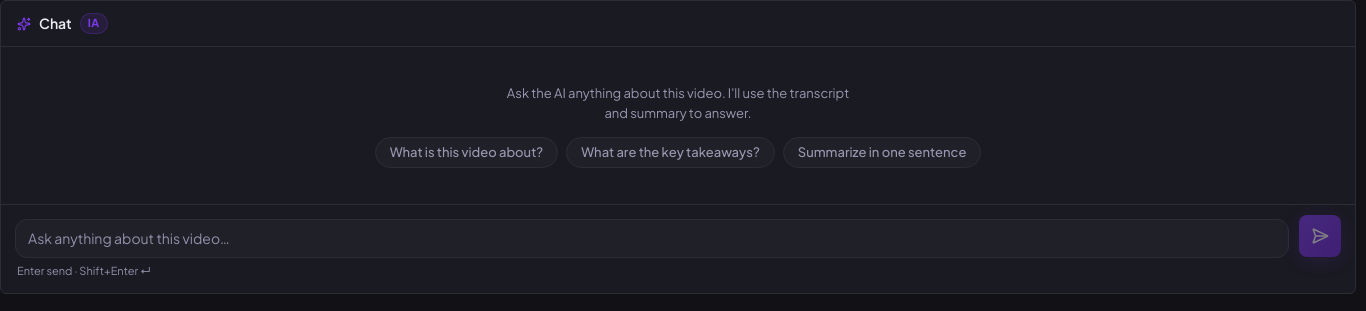
Scenario: ChatSection › displays AI response in the message list
Type "What is this?" into the text box at (652, 238), box x1=15 y1=219 x2=1289 y2=258
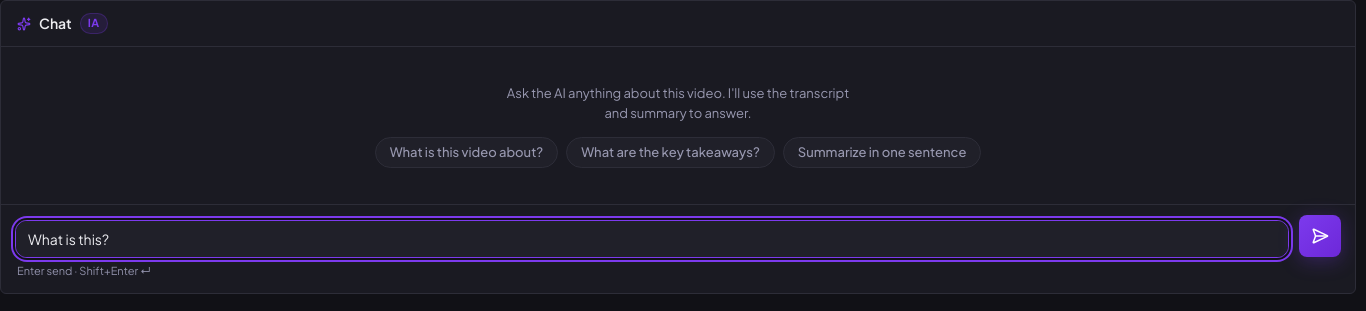
Click the button named "Send" at (1320, 236), box x1=1299 y1=215 x2=1341 y2=257
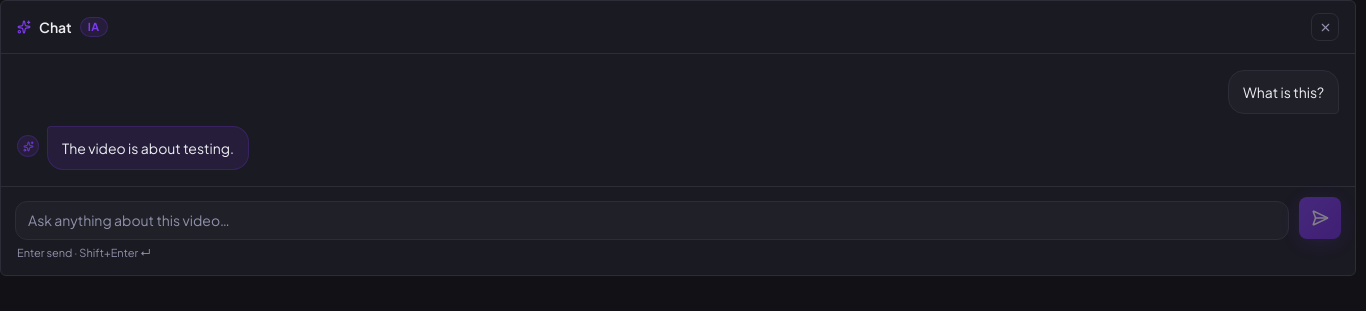
Now the text "The video is about testing." is shown, box x1=47 y1=126 x2=249 y2=170
